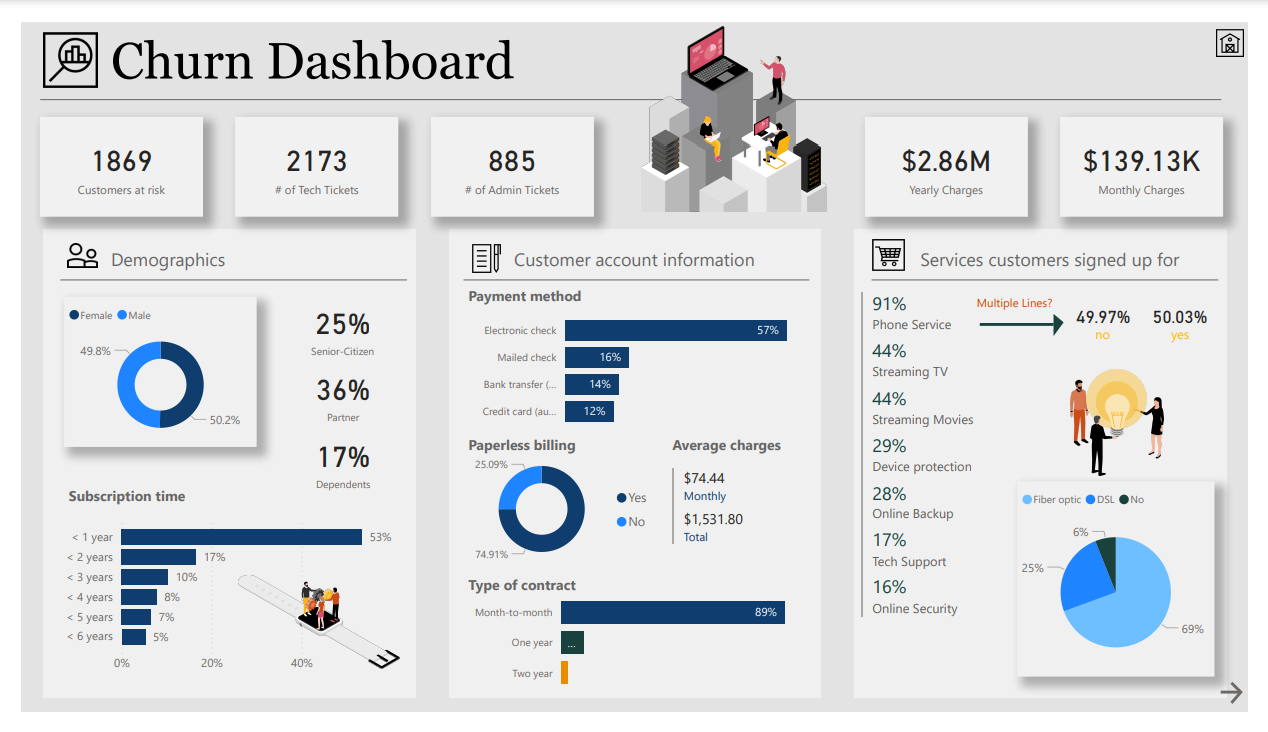

What the dashboard file says about the page in this screenshot:
{"tool":"powerbi","page":{"name":"Churn","canvas":[1280,720],"ordinal":0},"visuals":[{"type":"textbox","box":[87.7,4.9,1173.8,75],"z":0},{"type":"basicShape","box":[8.7,60.7,1253,40.5],"z":1000},{"type":"basicShape","box":[18.3,210,396.8,499.9],"z":2000},{"type":"card","fields":{"Values":["CountNonNull(churn.customerID)"]},"box":[18.5,99.4,170,102.3],"z":3000},{"type":"basicShape","box":[441.6,210,396.8,499.9],"z":4000},{"type":"basicShape","box":[864.9,210,396.8,499.9],"z":5000},{"type":"textbox","box":[508.5,228.6,314.9,35.6],"z":6000},{"type":"basicShape","box":[450.7,248.9,381.4,39.5],"z":7000},{"type":"image","box":[461.3,226.3,47.2,39.5],"z":8000},{"type":"textbox","box":[932.7,228.6,314.9,35.6],"z":9000},{"type":"basicShape","box":[877.4,248.9,381.4,39.5],"z":10000},{"type":"textbox","box":[88,228.6,314.9,35.6],"z":11000},{"type":"basicShape","box":[30.2,248.9,381.4,39.5],"z":12000},{"type":"image","box":[883.2,220.6,42.4,43.3],"z":13000},{"type":"image","box":[43.3,220.6,40.5,44.3],"z":14000},{"type":"donutChart","fields":{"Category":["churn.gender"],"Y":["CountNonNull(churn.gender)"]},"box":[43.8,286,201.3,156.6],"z":15000},{"type":"card","fields":{"Values":["churn.SeniorCitizen in %"]},"box":[271.4,268.7,128.1,100.2],"z":16000},{"type":"card","fields":{"Values":["churn.Partner in %"]},"box":[271.4,338.1,128.4,100.2],"z":17000},{"type":"card","fields":{"Values":["churn.Dependents in %"]},"box":[271.4,407.5,128.4,100.2],"z":18000},{"type":"clusteredBarChart","fields":{"Category":["churn.Contract"],"Y":["CountNonNull(churn.Contract)"]},"box":[461.3,577.9,370.8,131.9],"z":19000},{"type":"clusteredBarChart","fields":{"Y":["CountNonNull(churn.PaymentMethod)"],"Category":["churn.PaymentMethod"]},"box":[461.3,286,370.8,148.3],"z":20000},{"type":"textbox","box":[461.3,269.7,314.9,35.6],"z":21000},{"type":"textbox","box":[461.3,424.7,204.2,35.6],"z":22000},{"type":"donutChart","fields":{"Category":["churn.PaperlessBilling"],"Y":["CountNonNull(churn.PaperlessBilling)"]},"box":[461.3,438.2,204.2,139.7],"z":23000},{"type":"multiRowCard","fields":{"Values":["Avg(churn.MonthlyCharges)","Avg(churn.TotalCharges)"]},"box":[674.2,460.4,149.3,95.3],"z":24000},{"type":"textbox","box":[461.3,572.1,314.9,35.6],"z":25000},{"type":"pieChart","fields":{"Category":["churn.InternetService"],"Y":["Divide(CountNonNull(churn.InternetService), ScopedEval(CountNonNull(churn.InternetService), []))"]},"box":[1038.8,478.9,205.8,204.5],"z":26000},{"type":"card","fields":{"Values":["churn.Multiple Lines in %"]},"box":[1172.8,276.4,72.2,62.6],"z":27000},{"type":"card","fields":{"Values":["churn.Multiple lines no in %"]},"box":[1093.1,276.4,72.2,61.6],"z":28000},{"type":"textbox","box":[971.7,278.2,129.4,27.2],"z":29000},{"type":"textbox","box":[1092.2,311,73.2,35.6],"z":30000},{"type":"textbox","box":[1172.8,311,73.2,35.6],"z":31000},{"type":"textbox","box":[674.2,424.7,148.3,35.6],"z":32000},{"type":"multiRowCard","fields":{"Values":["churn.Phone Service in %","churn.Streaming TV in %","churn.Streaming Movies in %","churn.Device protection in %","churn.Online Bacup in %","churn.Tech Support in %","churn.Online Sec. in %"]},"box":[871.4,275.8,164.7,414.4],"z":33000},{"type":"basicShape","box":[990.2,300.5,97.3,28.2],"z":34000},{"type":"basicShape","box":[1063.1,296.7,37.9,32.1],"z":35000},{"type":"clusteredBarChart","fields":{"Y":["CountNonNull(churn.Churn)"],"Category":["churn.Loyalty"]},"box":[37,507.7,365.7,179],"z":36000},{"type":"textbox","box":[43.8,478.5,314.2,35],"z":37000},{"type":"image","box":[1048.2,356.5,190.9,121.8],"z":38000},{"type":"actionButton","box":[1246.1,680.1,31.6,39.5],"z":39000},{"type":"image","box":[16.6,4.9,67.2,68.2],"z":40000},{"type":"card","fields":{"Values":["Sum(churn.MonthlyCharges)"]},"box":[1083.9,99.4,170,102.3],"z":41000},{"type":"image","box":[634.9,0,216.9,202.2],"z":42000},{"type":"image","box":[221.1,556.2,178.3,139.3],"z":43000},{"type":"card","fields":{"Values":["Sum(churn.numTechTickets)"]},"box":[222.8,99.4,170,102.3],"z":44000},{"type":"card","fields":{"Values":["Sum(churn.numAdminTickets)"]},"box":[427.1,99.4,170,102.3],"z":45000},{"type":"card","fields":{"Values":["Sum(churn.TotalCharges)"]},"box":[879.7,99.4,170,102.3],"z":46000},{"type":"image","box":[1242,0,38,42.9],"z":49000}]}

Visuals, with their boxes in screenshot pixels (x1, y1, x2, y2), scaled from the page's 1280x720 canvas onto the 1268x732 screenshot:
textbox: region(87, 5, 1250, 81)
basicShape: region(9, 62, 1250, 103)
basicShape: region(18, 214, 411, 722)
card - CountNonNull(churn.customerID): region(18, 101, 187, 205)
basicShape: region(437, 214, 831, 722)
basicShape: region(857, 214, 1250, 722)
textbox: region(504, 232, 816, 269)
basicShape: region(446, 253, 824, 293)
image: region(457, 230, 504, 270)
textbox: region(924, 232, 1236, 269)
basicShape: region(869, 253, 1247, 293)
textbox: region(87, 232, 399, 269)
basicShape: region(30, 253, 408, 293)
image: region(875, 224, 917, 268)
image: region(43, 224, 83, 269)
donutChart - churn.gender x CountNonNull(churn.gender): region(43, 291, 243, 450)
card - churn.SeniorCitizen in %: region(269, 273, 396, 375)
card - churn.Partner in %: region(269, 344, 396, 446)
card - churn.Dependents in %: region(269, 414, 396, 516)
clusteredBarChart - churn.Contract x CountNonNull(churn.Contract): region(457, 588, 824, 722)
clusteredBarChart - CountNonNull(churn.PaymentMethod) x churn.PaymentMethod: region(457, 291, 824, 442)
textbox: region(457, 274, 769, 310)
textbox: region(457, 432, 659, 468)
donutChart - churn.PaperlessBilling x CountNonNull(churn.PaperlessBilling): region(457, 446, 659, 588)
multiRowCard - Avg(churn.MonthlyCharges) x Avg(churn.TotalCharges): region(668, 468, 816, 565)
textbox: region(457, 582, 769, 618)
pieChart - churn.InternetService x Divide(CountNonNull(churn.InternetService), ScopedEval(CountNonNull(churn.InternetService), [])): region(1029, 487, 1233, 695)
card - churn.Multiple Lines in %: region(1162, 281, 1233, 345)
card - churn.Multiple lines no in %: region(1083, 281, 1154, 344)
textbox: region(963, 283, 1091, 310)
textbox: region(1082, 316, 1154, 352)
textbox: region(1162, 316, 1234, 352)
textbox: region(668, 432, 815, 468)
multiRowCard - churn.Phone Service in % x churn.Streaming TV in %: region(863, 280, 1026, 702)
basicShape: region(981, 306, 1077, 334)
basicShape: region(1053, 302, 1091, 334)
clusteredBarChart - CountNonNull(churn.Churn) x churn.Loyalty: region(37, 516, 399, 698)
textbox: region(43, 486, 355, 522)
image: region(1038, 362, 1227, 486)
actionButton: region(1234, 691, 1266, 731)
image: region(16, 5, 83, 74)
card - Sum(churn.MonthlyCharges): region(1074, 101, 1242, 205)
image: region(629, 0, 844, 206)
image: region(219, 565, 396, 707)
card - Sum(churn.numTechTickets): region(221, 101, 389, 205)
card - Sum(churn.numAdminTickets): region(423, 101, 592, 205)
card - Sum(churn.TotalCharges): region(871, 101, 1040, 205)
image: region(1230, 0, 1267, 44)
